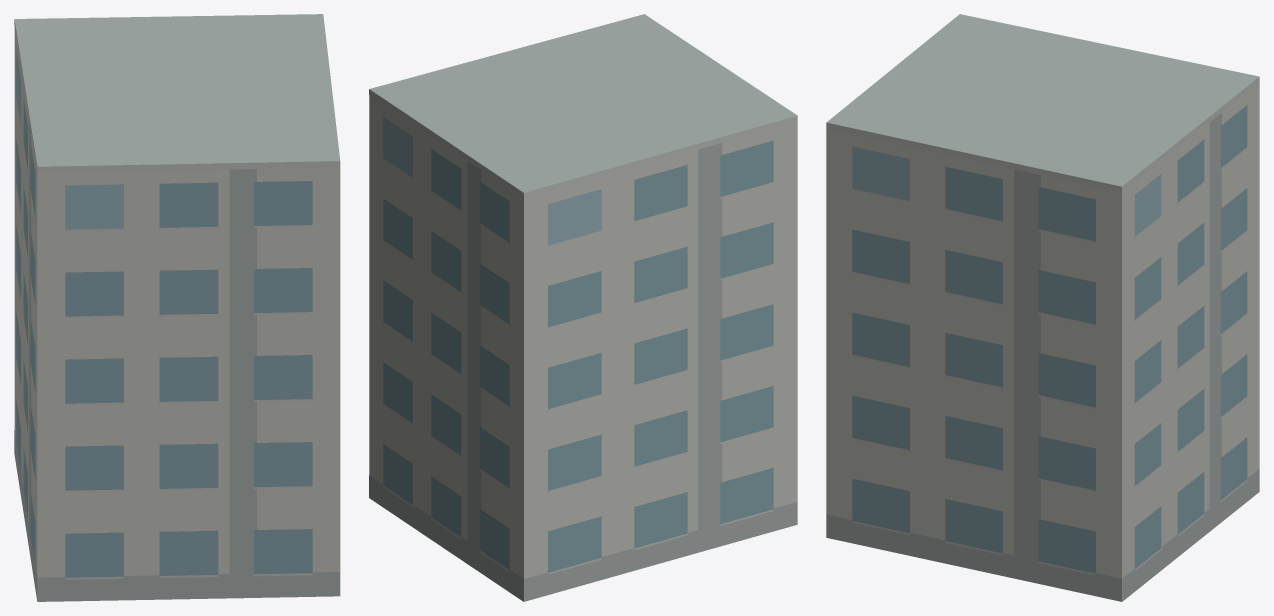
The model's file is survey-upis-32878343.glb.
3 renders of one model, left to right at view 1: azimuth 30°, elevation 25°; view 2: azimuth 150°, elevation 25°; view 3: azimuth 270°, elevation 25°, orthographic. The views are drawn at different scales.
Visible parts, largest first — view 1: survey-upis-32878343.tmp; view 2: survey-upis-32878343.tmp; view 3: survey-upis-32878343.tmp.
Boxes of the visible parts, box(x1,y1,x2,y2) form: survey-upis-32878343.tmp: box(14, 14, 340, 601); survey-upis-32878343.tmp: box(369, 14, 797, 601); survey-upis-32878343.tmp: box(826, 14, 1259, 601).
Size of the model in its own units: 15.08 by 16.9 by 15.99.
